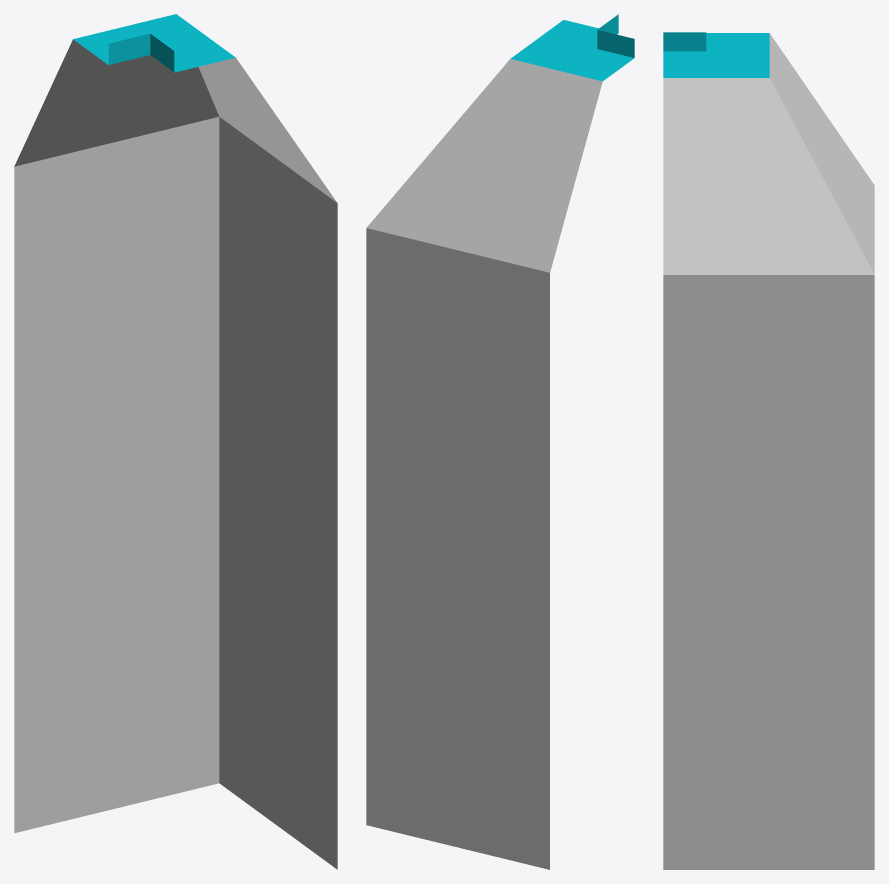
The model's file is Wall_C_Inner.fbx.
3 views of the same model, side by side, from view 1: azimuth 30°, elevation 25°; view 2: azimuth 150°, elevation 25°; view 3: azimuth 270°, elevation 25° (orthographic). The views are drawn at different scales.
Visible parts, largest first — view 1: Wall_C_Inner; view 2: Wall_C_Inner; view 3: Wall_C_Inner.
Boxes of the visible parts, x1=… form: Wall_C_Inner: x1=14, y1=14, x2=337, y2=869; Wall_C_Inner: x1=366, y1=14, x2=634, y2=869; Wall_C_Inner: x1=663, y1=32, x2=874, y2=869.
Size of the model in its own units: 1 by 4 by 1.
